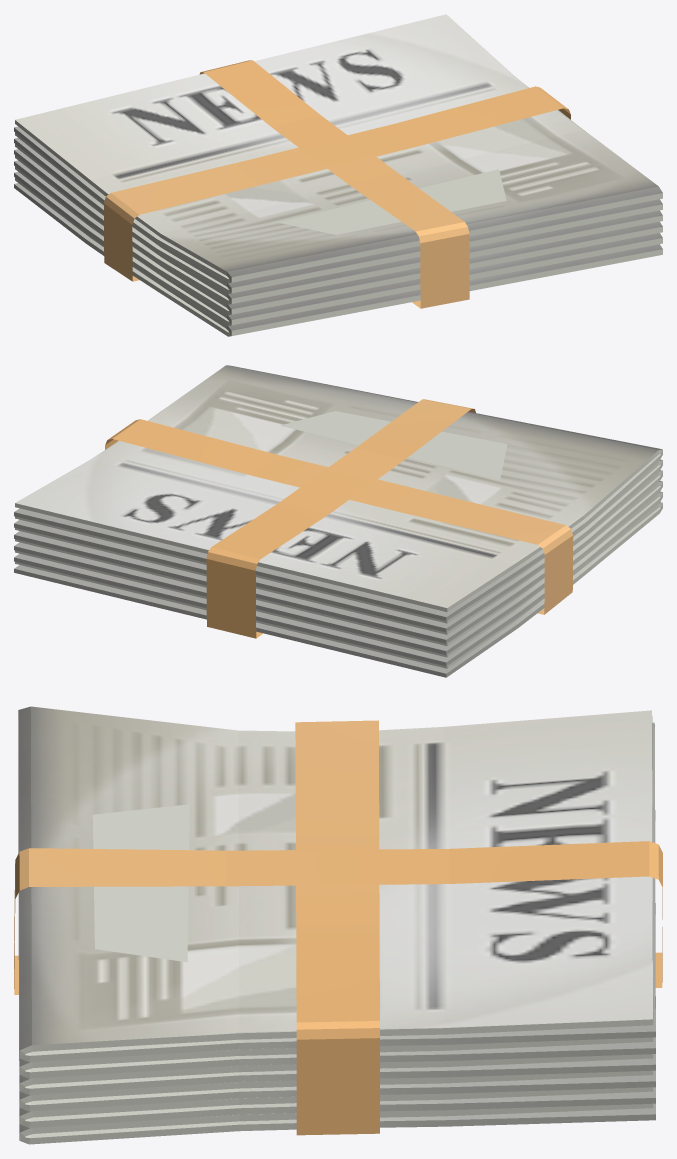
File: GAZETE_STACKLENMIS.fbx
The picture shows the model from 3 angles, top to bottom: view 1: azimuth 30°, elevation 25°; view 2: azimuth 150°, elevation 25°; view 3: azimuth 270°, elevation 25°; orthographic projection. The views are drawn at different scales.
Visible parts, largest first — view 1: GAZETE_STACK; view 2: GAZETE_STACK; view 3: GAZETE_STACK.
Part boxes in pixels (x1,y1,x2,y2): GAZETE_STACK: [14, 14, 662, 336]; GAZETE_STACK: [14, 365, 662, 677]; GAZETE_STACK: [14, 706, 662, 1144].
Size of the model in its own units: 31.92 by 6.11 by 27.86.
